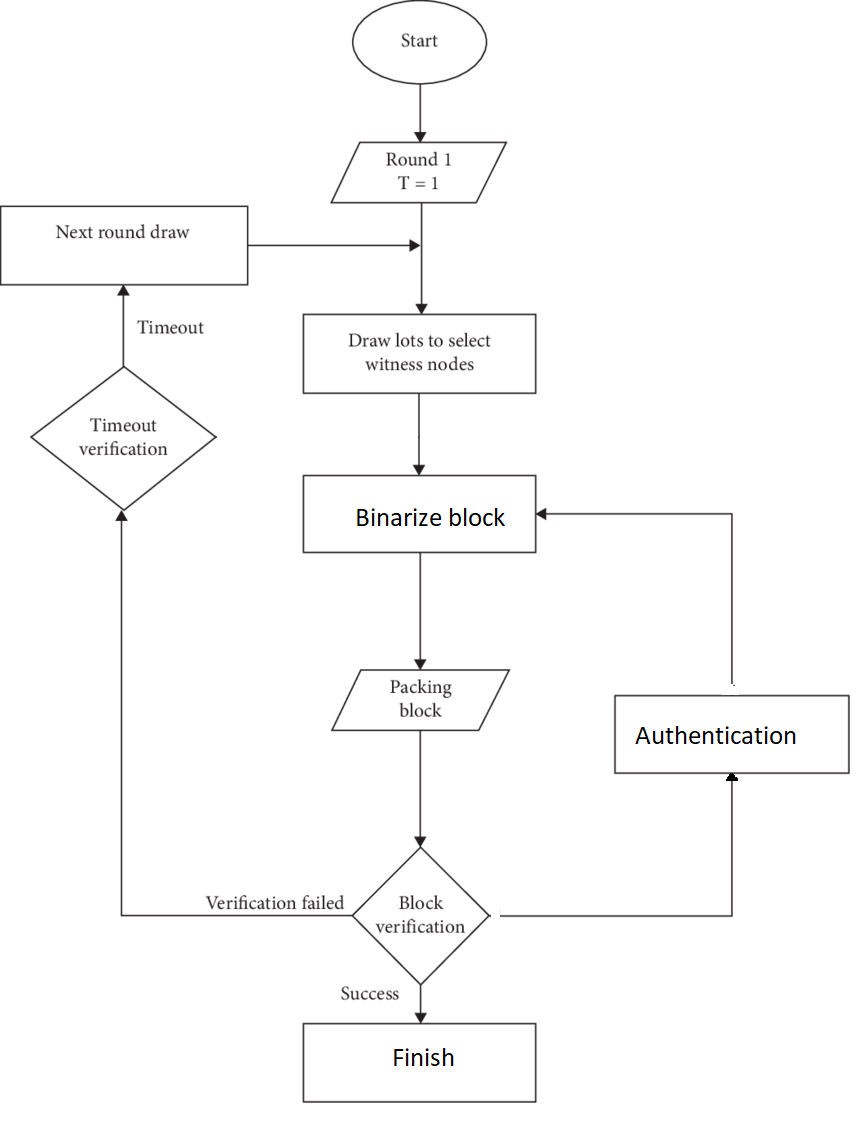arrow: (112, 509, 353, 921), (494, 766, 746, 925), (532, 504, 739, 692), (248, 235, 425, 256), (410, 721, 431, 852), (410, 546, 431, 673), (112, 283, 139, 366), (412, 206, 431, 321), (408, 80, 431, 142), (408, 394, 424, 475), (410, 975, 429, 1021)
data: (327, 137, 512, 209), (327, 666, 512, 737)
decision: (27, 361, 224, 515), (348, 842, 494, 987)
process: (296, 1018, 546, 1108), (610, 689, 855, 780), (296, 308, 539, 399), (298, 468, 541, 558), (3, 202, 253, 289)
terminator: (348, 2, 493, 87)
text: (344, 330, 494, 373), (72, 413, 170, 461), (631, 723, 798, 749), (375, 892, 467, 939), (351, 502, 505, 530), (199, 887, 355, 913), (46, 220, 194, 244), (382, 149, 455, 192), (387, 677, 456, 720), (386, 1042, 456, 1068), (132, 316, 206, 337), (337, 983, 399, 1002), (398, 28, 443, 52)
